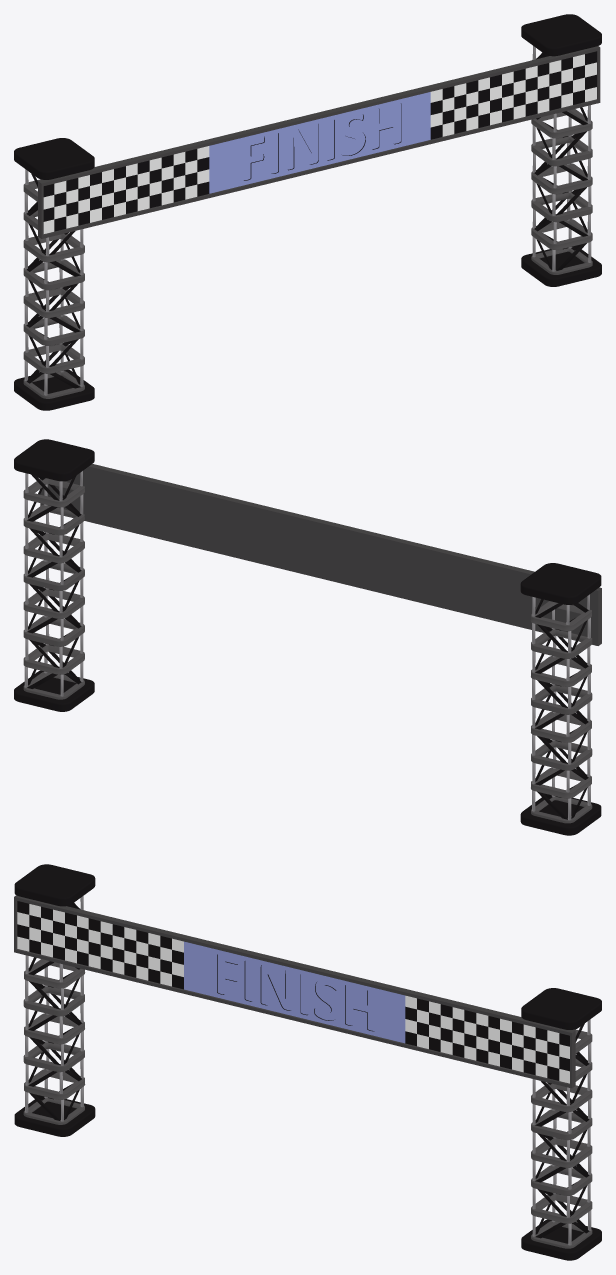
Rendered from Finish_Line.glb.
The picture shows the model from 3 angles, top to bottom: view 1: azimuth 30°, elevation 25°; view 2: azimuth 150°, elevation 25°; view 3: azimuth 330°, elevation 25°; orthographic projection.
Parts seen in each view (by area): view 1: Finish_Line; view 2: Finish_Line; view 3: Finish_Line.
Boxes of the visible parts, x1,y1,x2,y2 form: Finish_Line: (14,14,601,410); Finish_Line: (14,439,601,835); Finish_Line: (14,864,601,1260).
Bounding box in the file's own units: 25.17 × 10.2 × 2.5.
1 material, 1 textured.
